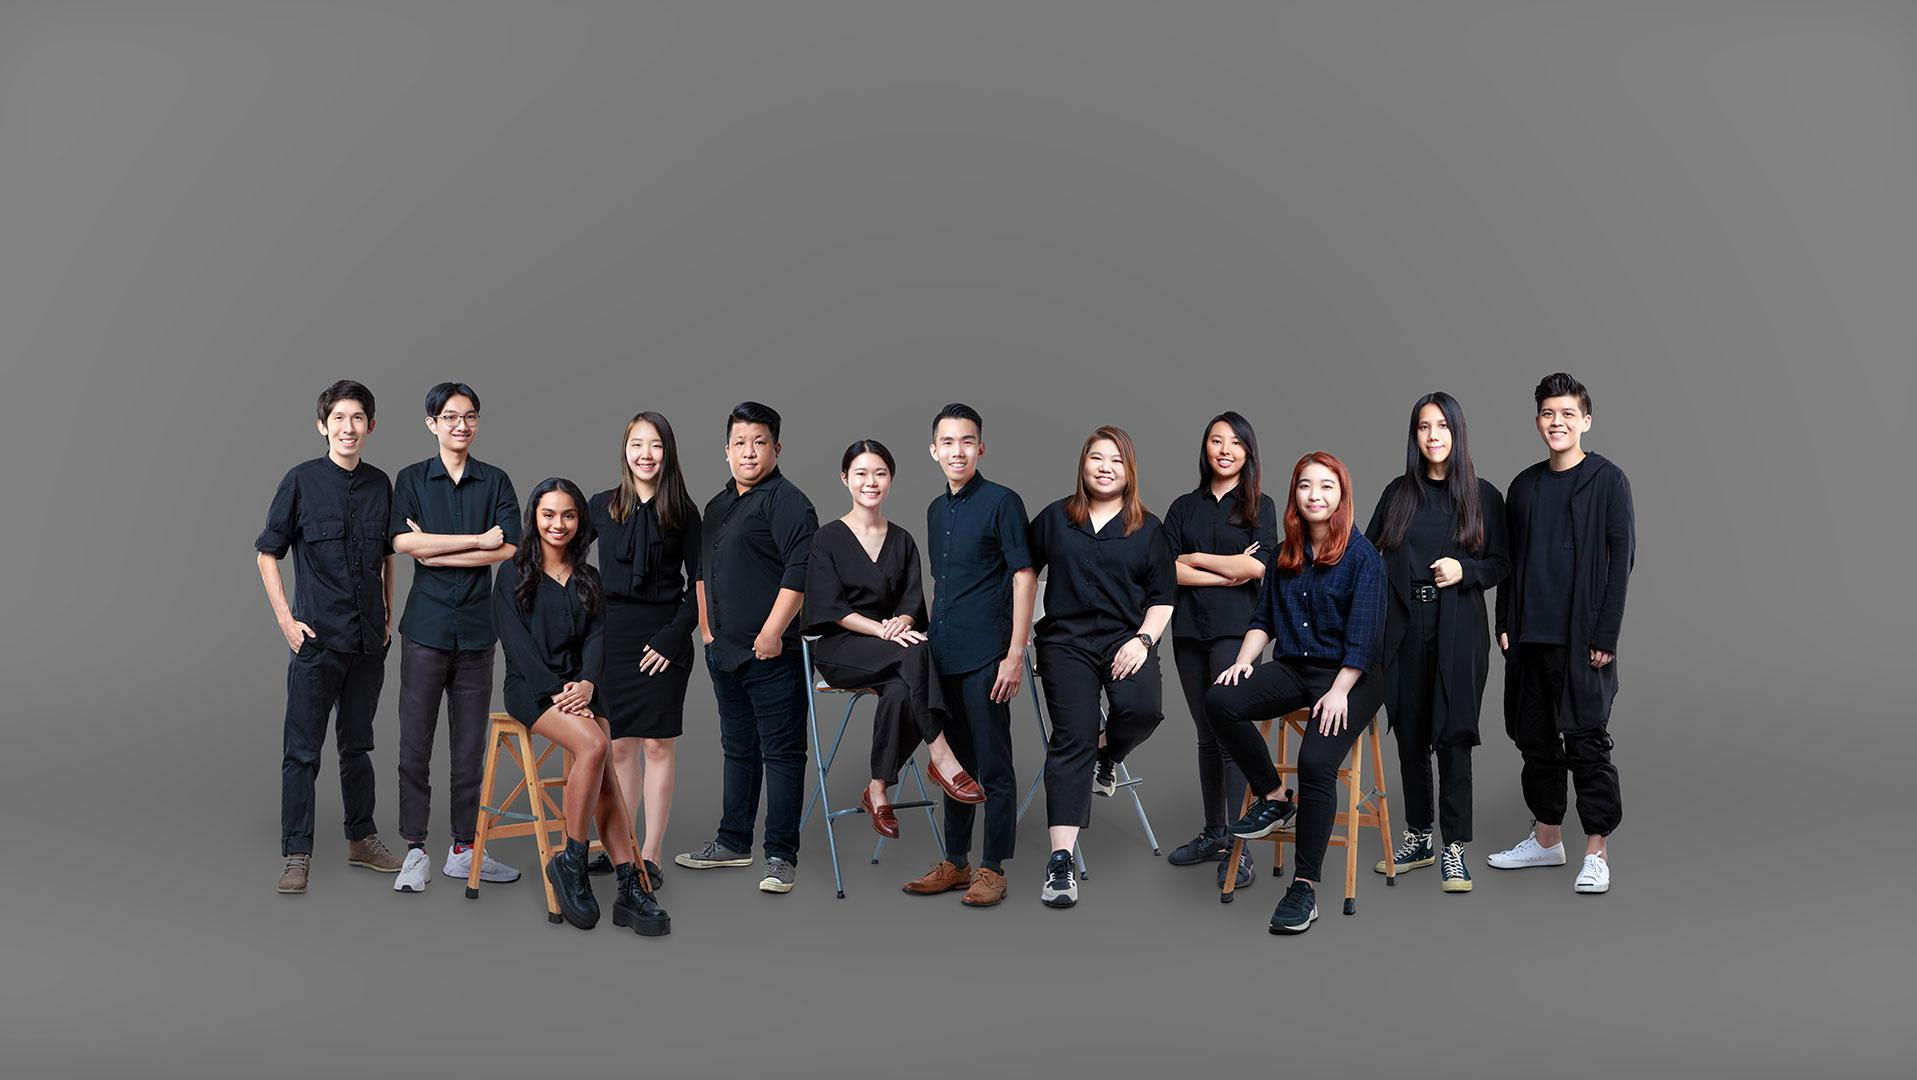without_mask: (294, 352, 392, 477), (1192, 379, 1278, 507), (1522, 359, 1620, 471), (1057, 414, 1152, 521), (1397, 379, 1488, 491), (714, 379, 798, 499), (1287, 439, 1372, 558), (602, 396, 688, 501), (927, 384, 1004, 501), (834, 427, 910, 525), (424, 362, 494, 469), (529, 479, 594, 578)
